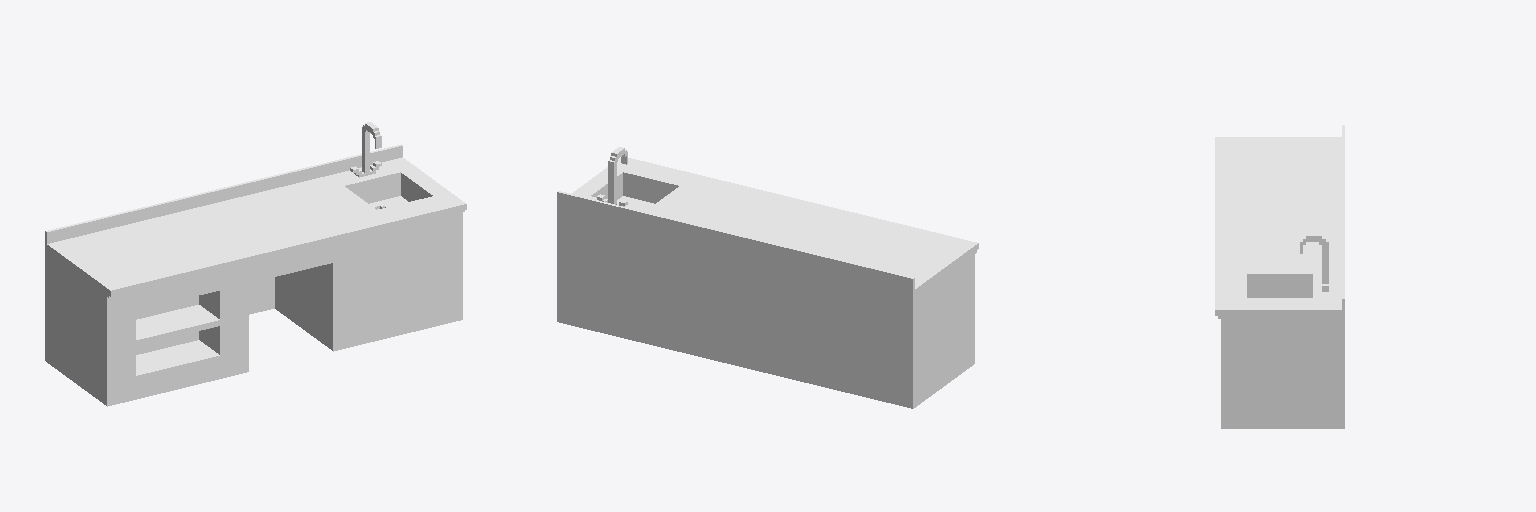
File: paillasse.obj
3 views of the same model, side by side, from view 1: azimuth 30°, elevation 25°; view 2: azimuth 150°, elevation 25°; view 3: azimuth 270°, elevation 25° (orthographic).
Visible parts, largest first — view 1: paillasse; view 2: paillasse; view 3: paillasse.
Part boxes in pixels (left/top/right/bottom): paillasse: left=45, top=122, right=466, bottom=406; paillasse: left=557, top=147, right=978, bottom=408; paillasse: left=1215, top=125, right=1344, bottom=428.
Size of the model in its own units: 126 by 58 by 40.